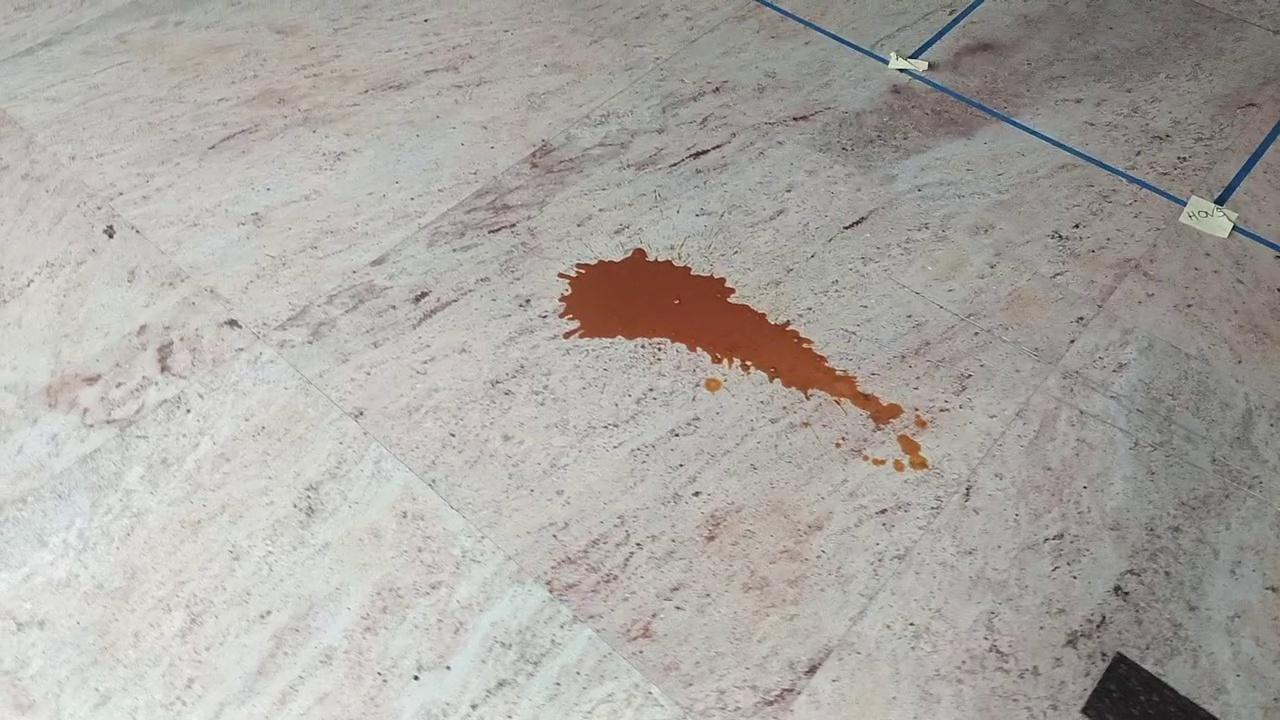dirty_floor: (555, 246, 932, 472)
